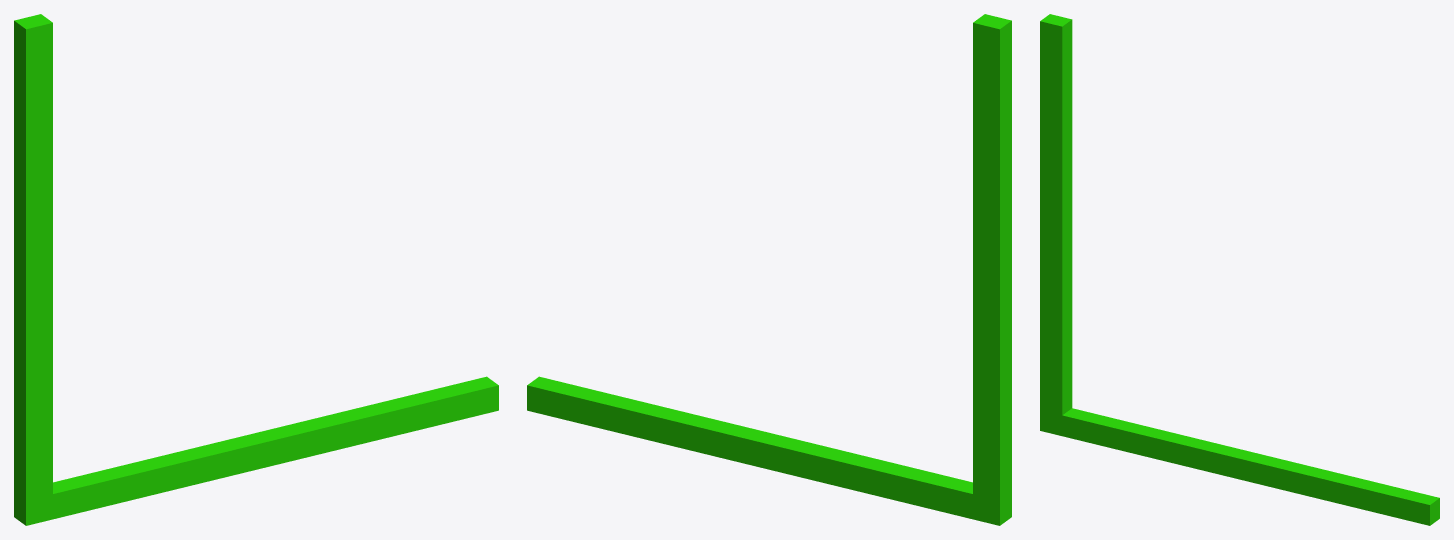
Rendered from Factory_Pipe_05_Collider.fbx.
3 views of the same model, side by side, from view 1: azimuth 30°, elevation 25°; view 2: azimuth 150°, elevation 25°; view 3: azimuth 330°, elevation 25° (orthographic). The views are drawn at different scales.
Parts seen in each view (by area): view 1: Factory_Pipe_05_Collider; view 2: Factory_Pipe_05_Collider; view 3: Factory_Pipe_05_Collider.
Boxes of the visible parts, <box> form: Factory_Pipe_05_Collider: <box>14,14,498,525</box>; Factory_Pipe_05_Collider: <box>527,14,1011,525</box>; Factory_Pipe_05_Collider: <box>1040,14,1439,525</box>.
Bounding box in the file's own units: 733 × 736 × 32.21.
